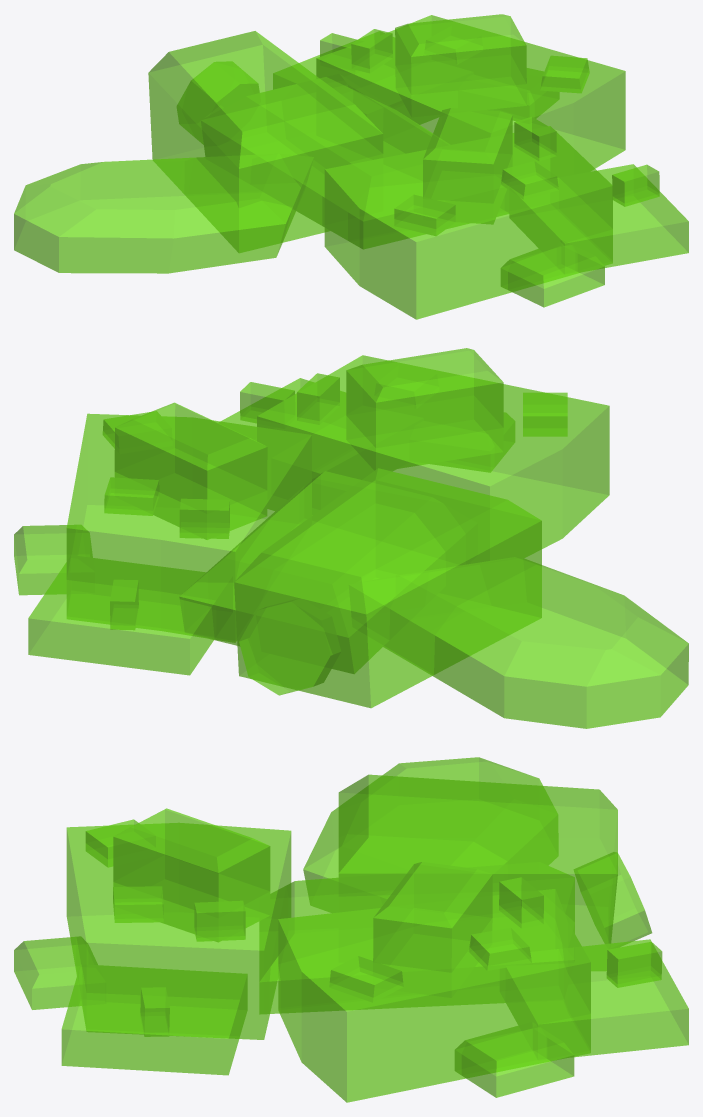
File: SM_Obstacle_09_Collision.fbx
3 views of the same model, one above another, from view 1: azimuth 30°, elevation 25°; view 2: azimuth 150°, elevation 25°; view 3: azimuth 270°, elevation 25° (orthographic). The views are drawn at different scales.
Parts seen in each view (by area): view 1: Obstacle_09_Collision; view 2: Obstacle_09_Collision; view 3: Obstacle_09_Collision.
Boxes of the visible parts, bbox=[...] form: Obstacle_09_Collision: bbox=[14, 14, 688, 319]; Obstacle_09_Collision: bbox=[14, 348, 688, 728]; Obstacle_09_Collision: bbox=[14, 757, 688, 1102].
Bounding box in the file's own units: 655 × 150 × 599.
